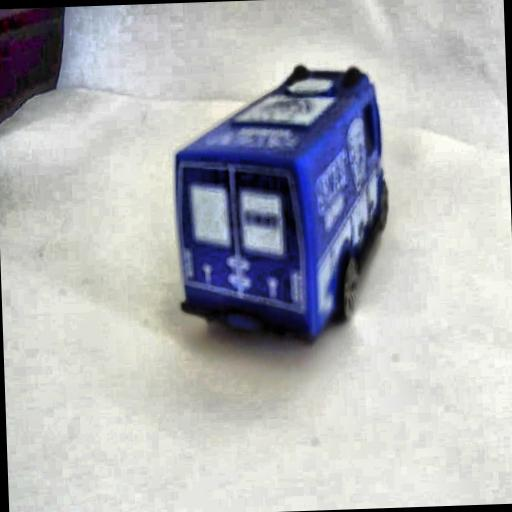police car: (160, 60, 394, 350)
